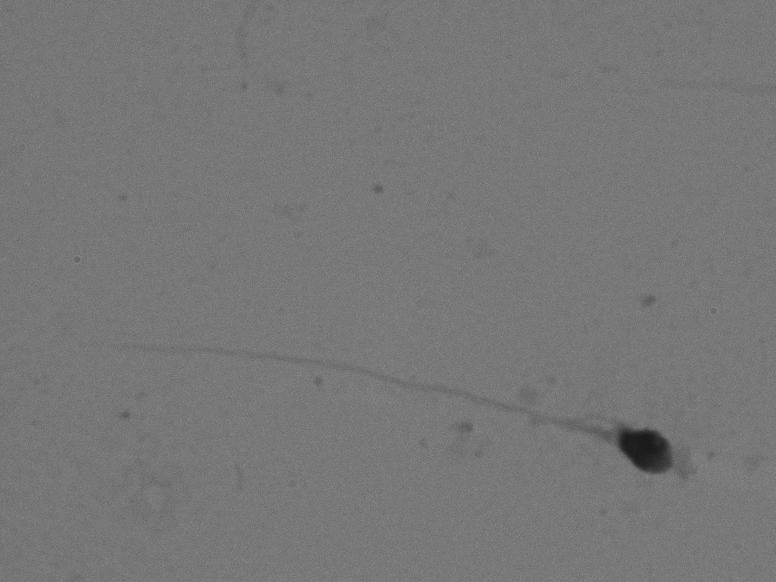Abnormal: (55, 300, 692, 499)
